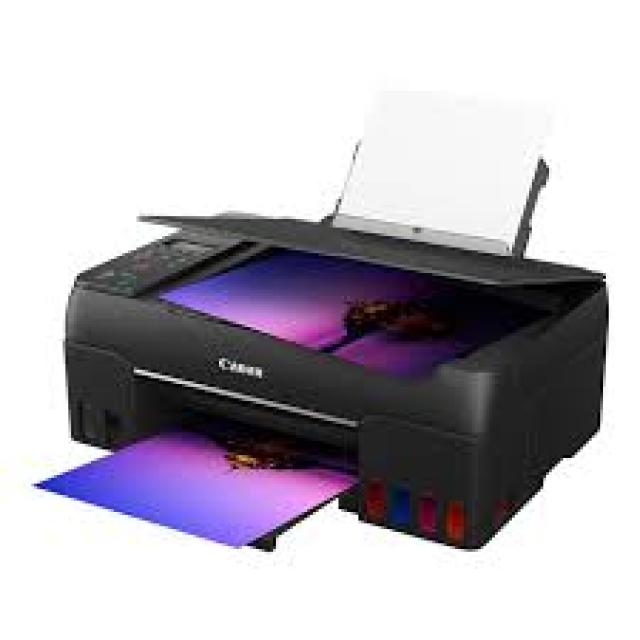printer: (59, 88, 608, 549)
